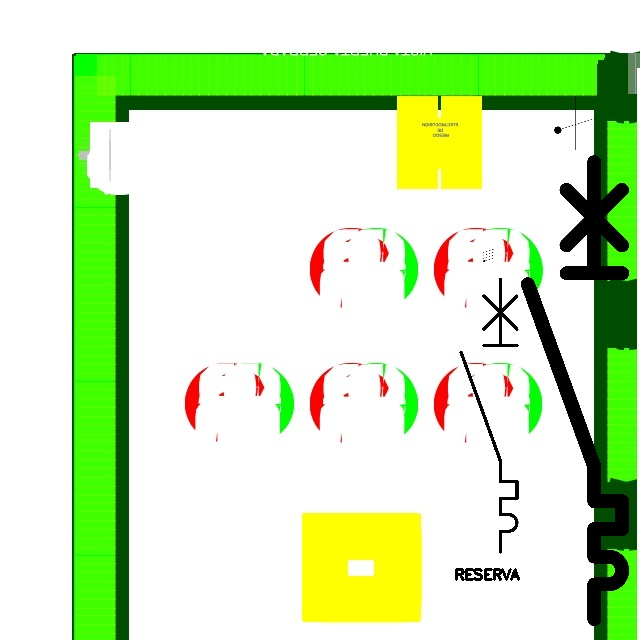interruptor_termomagnetico: (516, 150, 634, 631), (454, 272, 524, 559)
